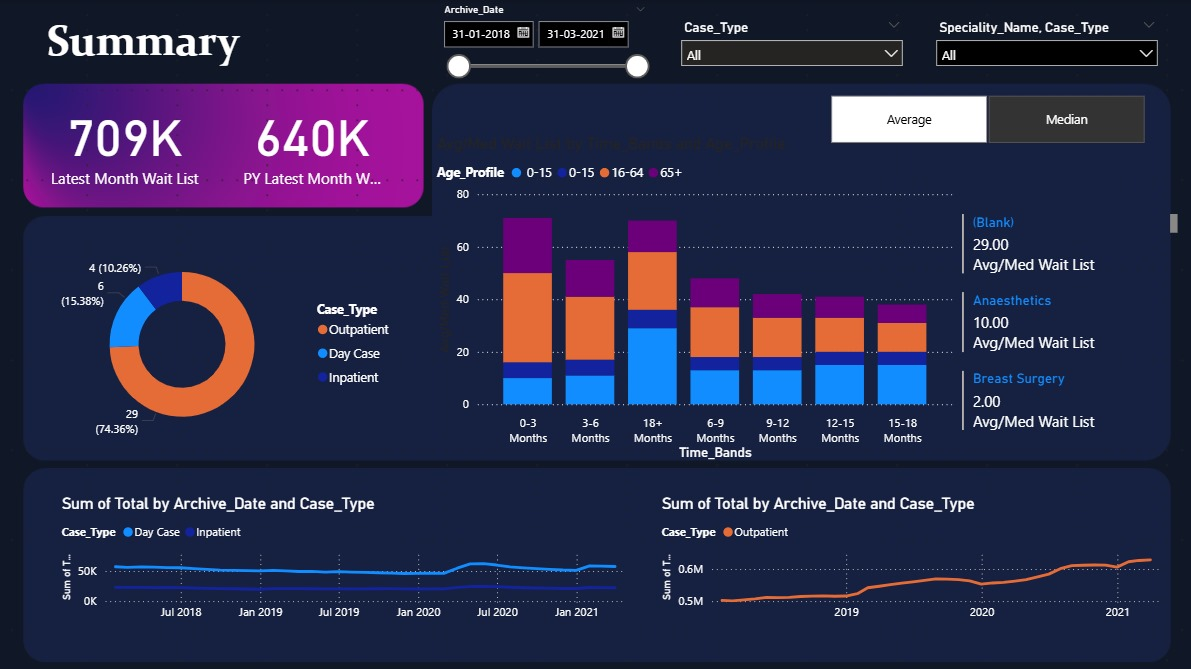

The page's visual inventory and layout, read from the dashboard file:
{"tool":"powerbi","page":{"name":"Summary","canvas":[1280,720],"ordinal":0},"visuals":[{"type":"card","fields":{"Values":["All_Data.Latest Month Wait List"]},"box":[48,96,176,112],"z":0},{"type":"card","fields":{"Values":["All_Data.PY Latest Month Wait List"]},"box":[256,96,160,112],"z":1000},{"type":"slicer","fields":{"Values":["Calculation Method.Calc Method"]},"box":[864,96,384,64],"z":2000},{"type":"donutChart","fields":{"Category":["All_Data.Case_Type"],"Y":["All_Data.Avg/Med Wait List"]},"box":[48,256,384,224],"z":3000},{"type":"lineChart","fields":{"Category":["All_Data.Archive_Date"],"Y":["Sum(All_Data.Total)"],"Series":["All_Data.Case_Type"]},"box":[64,528,624,144],"z":4000},{"type":"multiRowCard","fields":{"Values":["All_Data.Specialty_Name","All_Data.Avg/Med Wait List"]},"box":[1024,224,240,240],"z":5000},{"type":"lineChart","fields":{"Category":["All_Data.Archive_Date"],"Y":["Sum(All_Data.Total)"],"Series":["All_Data.Case_Type"]},"box":[704,528,544,144],"z":6000},{"type":"columnChart","fields":{"Y":["All_Data.Avg/Med Wait List"],"Category":["All_Data.Time_Bands"],"Series":["All_Data.Age_Profile"]},"box":[464,144,560,352],"z":7000},{"type":"slicer","fields":{"Values":["All_Data.Archive_Date"]},"box":[464,0,240,128],"z":8000},{"type":"slicer","fields":{"Values":["All_Data.Case_Type"]},"box":[720,16,256,80],"z":9000},{"type":"slicer","fields":{"Values":["All_Data.Speciality_Name","All_Data.Case_Type"]},"box":[992,16,256,80],"z":10000},{"type":"textbox","title":"Summary","box":[48,16,240,64],"z":10001}]}

Visuals, with their boxes in screenshot pixels (x1, y1, x2, y2), scaled from the page's 1280x720 canvas onto the 1191x669 screenshot:
card - All_Data.Latest Month Wait List: crop(45, 89, 208, 193)
card - All_Data.PY Latest Month Wait List: crop(238, 89, 387, 193)
slicer - Calculation Method.Calc Method: crop(804, 89, 1161, 149)
donutChart - All_Data.Case_Type x All_Data.Avg/Med Wait List: crop(45, 238, 402, 446)
lineChart - All_Data.Archive_Date x Sum(All_Data.Total): crop(60, 491, 640, 624)
multiRowCard - All_Data.Specialty_Name x All_Data.Avg/Med Wait List: crop(953, 208, 1176, 431)
lineChart - All_Data.Archive_Date x Sum(All_Data.Total): crop(655, 491, 1161, 624)
columnChart - All_Data.Avg/Med Wait List x All_Data.Time_Bands: crop(432, 134, 953, 461)
slicer - All_Data.Archive_Date: crop(432, 0, 655, 119)
slicer - All_Data.Case_Type: crop(670, 15, 908, 89)
slicer - All_Data.Speciality_Name x All_Data.Case_Type: crop(923, 15, 1161, 89)
"Summary" textbox: crop(45, 15, 268, 74)
